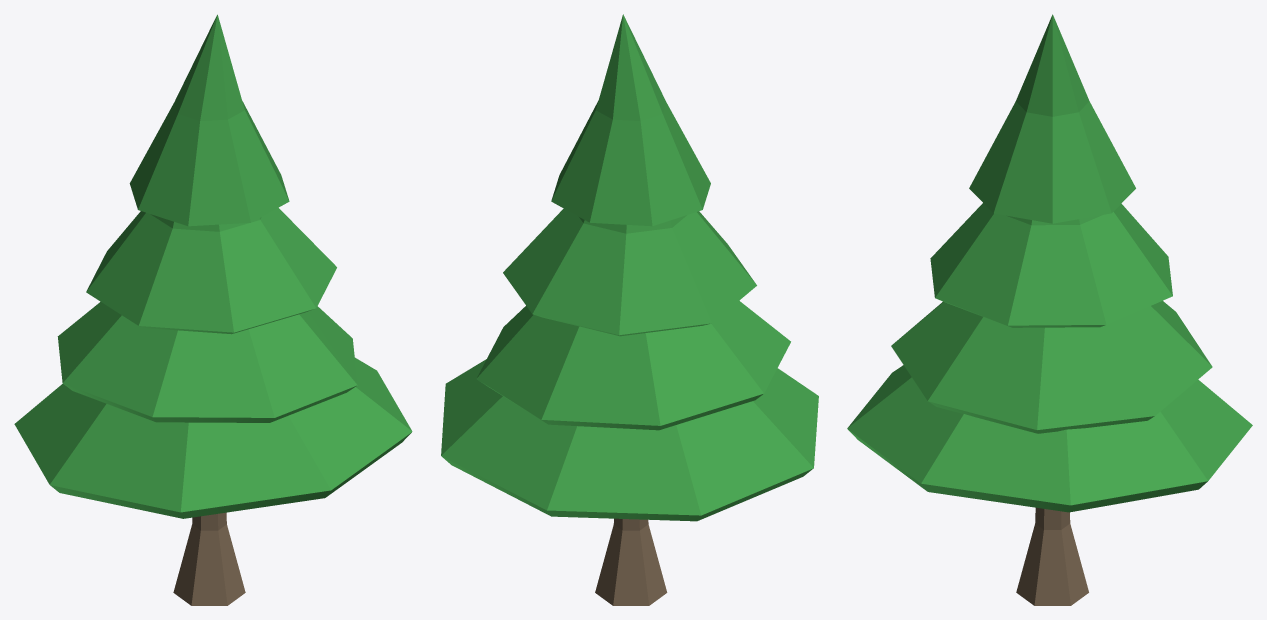
Rendered from pine_d.FBX.
3 views of the same model, side by side, from view 1: azimuth 30°, elevation 25°; view 2: azimuth 150°, elevation 25°; view 3: azimuth 270°, elevation 25° (orthographic).
Parts seen in each view (by area): view 1: pine_d; view 2: pine_d; view 3: pine_d.
Boxes of the visible parts, x1,y1,x2,y2 form: pine_d: (14,14,412,605); pine_d: (441,14,818,605); pine_d: (847,14,1252,605).
Bounding box in the file's own units: 2.63 × 4.16 × 2.63.
